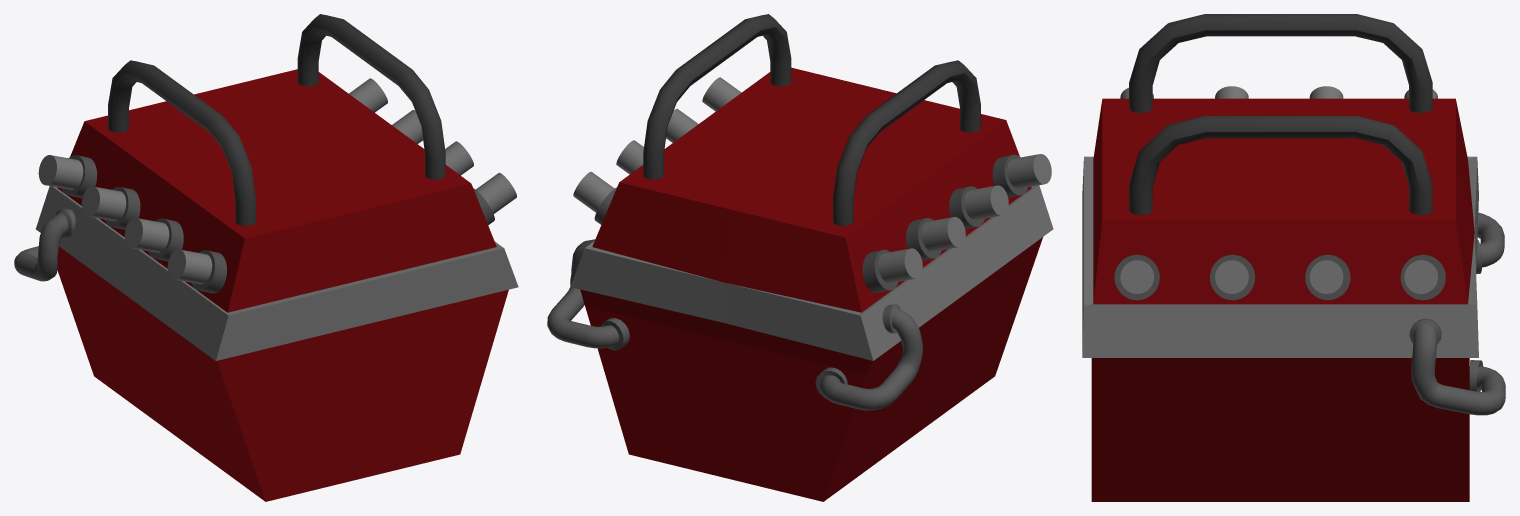
File: Generator.fbx
The picture shows the model from 3 angles, left to right: view 1: azimuth 30°, elevation 25°; view 2: azimuth 150°, elevation 25°; view 3: azimuth 270°, elevation 25°; orthographic projection. The views are drawn at different scales.
Visible parts, largest first — view 1: Cube.002, Cube, Cylinder, Cylinder.001, Cube.001; view 2: Cube.002, Cube, Cylinder, Cube.001, Cylinder.001; view 3: Cube.002, Cube, Cube.001, Cylinder, Cylinder.001.
Boxes of the visible parts, bbox=[...] form: Cube.002: bbox=[36, 69, 518, 501]; Cube: bbox=[108, 14, 445, 225]; Cylinder: bbox=[38, 78, 516, 284]; Cylinder.001: bbox=[61, 155, 494, 293]; Cube.001: bbox=[14, 209, 75, 281]; Cube.002: bbox=[570, 67, 1053, 501]; Cube: bbox=[643, 14, 980, 225]; Cylinder: bbox=[573, 77, 1051, 283]; Cube.001: bbox=[547, 239, 922, 410]; Cylinder.001: bbox=[594, 154, 1027, 292]; Cube.002: bbox=[1082, 98, 1478, 501]; Cube: bbox=[1129, 14, 1432, 215]; Cube.001: bbox=[1409, 212, 1505, 415]; Cylinder: bbox=[1120, 86, 1437, 293]; Cylinder.001: bbox=[1114, 254, 1445, 300].
Size of the model in its own units: 223 by 213 by 213.
